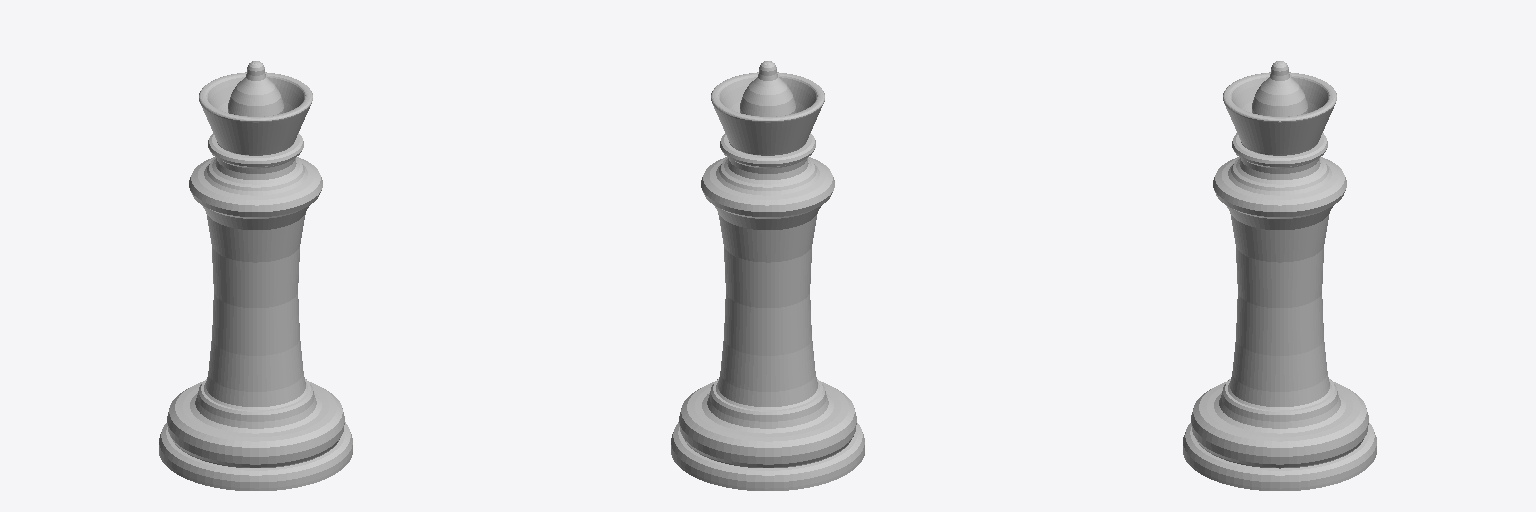
The model's file is queen.obj.
3 views of the same model, side by side, from view 1: azimuth 30°, elevation 25°; view 2: azimuth 150°, elevation 25°; view 3: azimuth 270°, elevation 25° (orthographic).
Size of the model in its own units: 0.9936 by 2.19 by 0.9936.